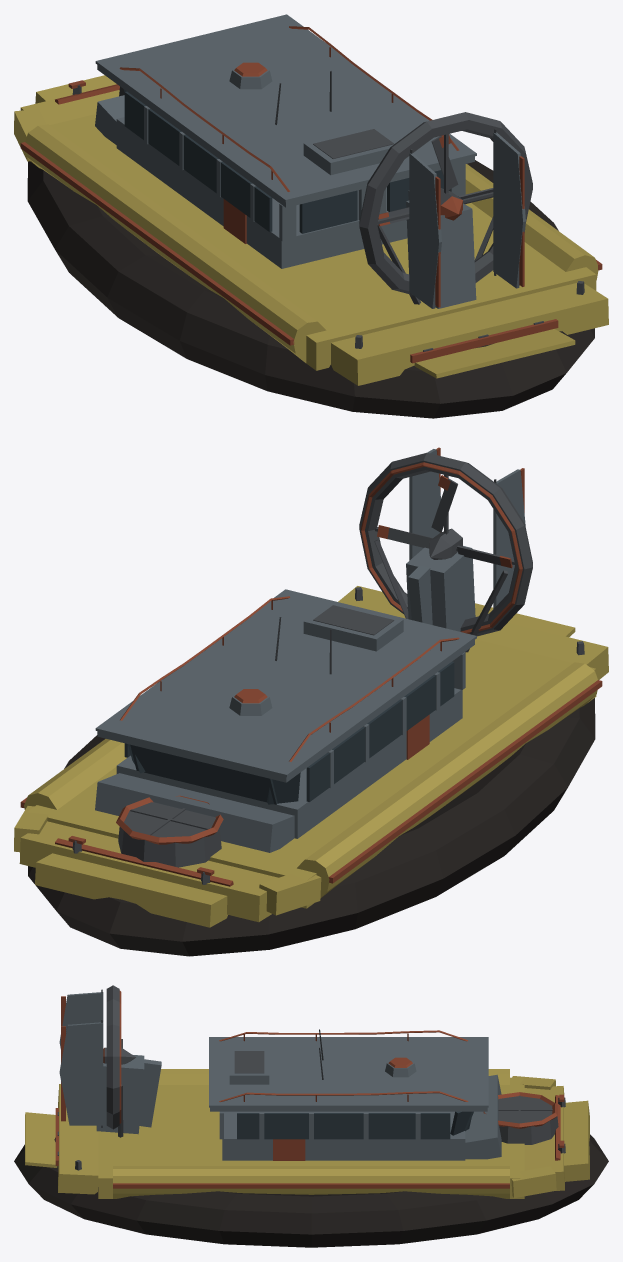
The model's file is hovercraft.glb.
3 views of the same model, one above another, from view 1: azimuth 30°, elevation 25°; view 2: azimuth 150°, elevation 25°; view 3: azimuth 270°, elevation 25° (orthographic). The views are drawn at different scales.
Parts seen in each view (by area): view 1: 091_hovercraft_mesh; view 2: 091_hovercraft_mesh; view 3: 091_hovercraft_mesh.
Boxes of the visible parts, x1,y1,x2,y2 form: 091_hovercraft_mesh: (14,14,608,418); 091_hovercraft_mesh: (14,447,608,956); 091_hovercraft_mesh: (14,985,608,1247).
Bounding box in the file's own units: 7 × 4.3 × 12.
